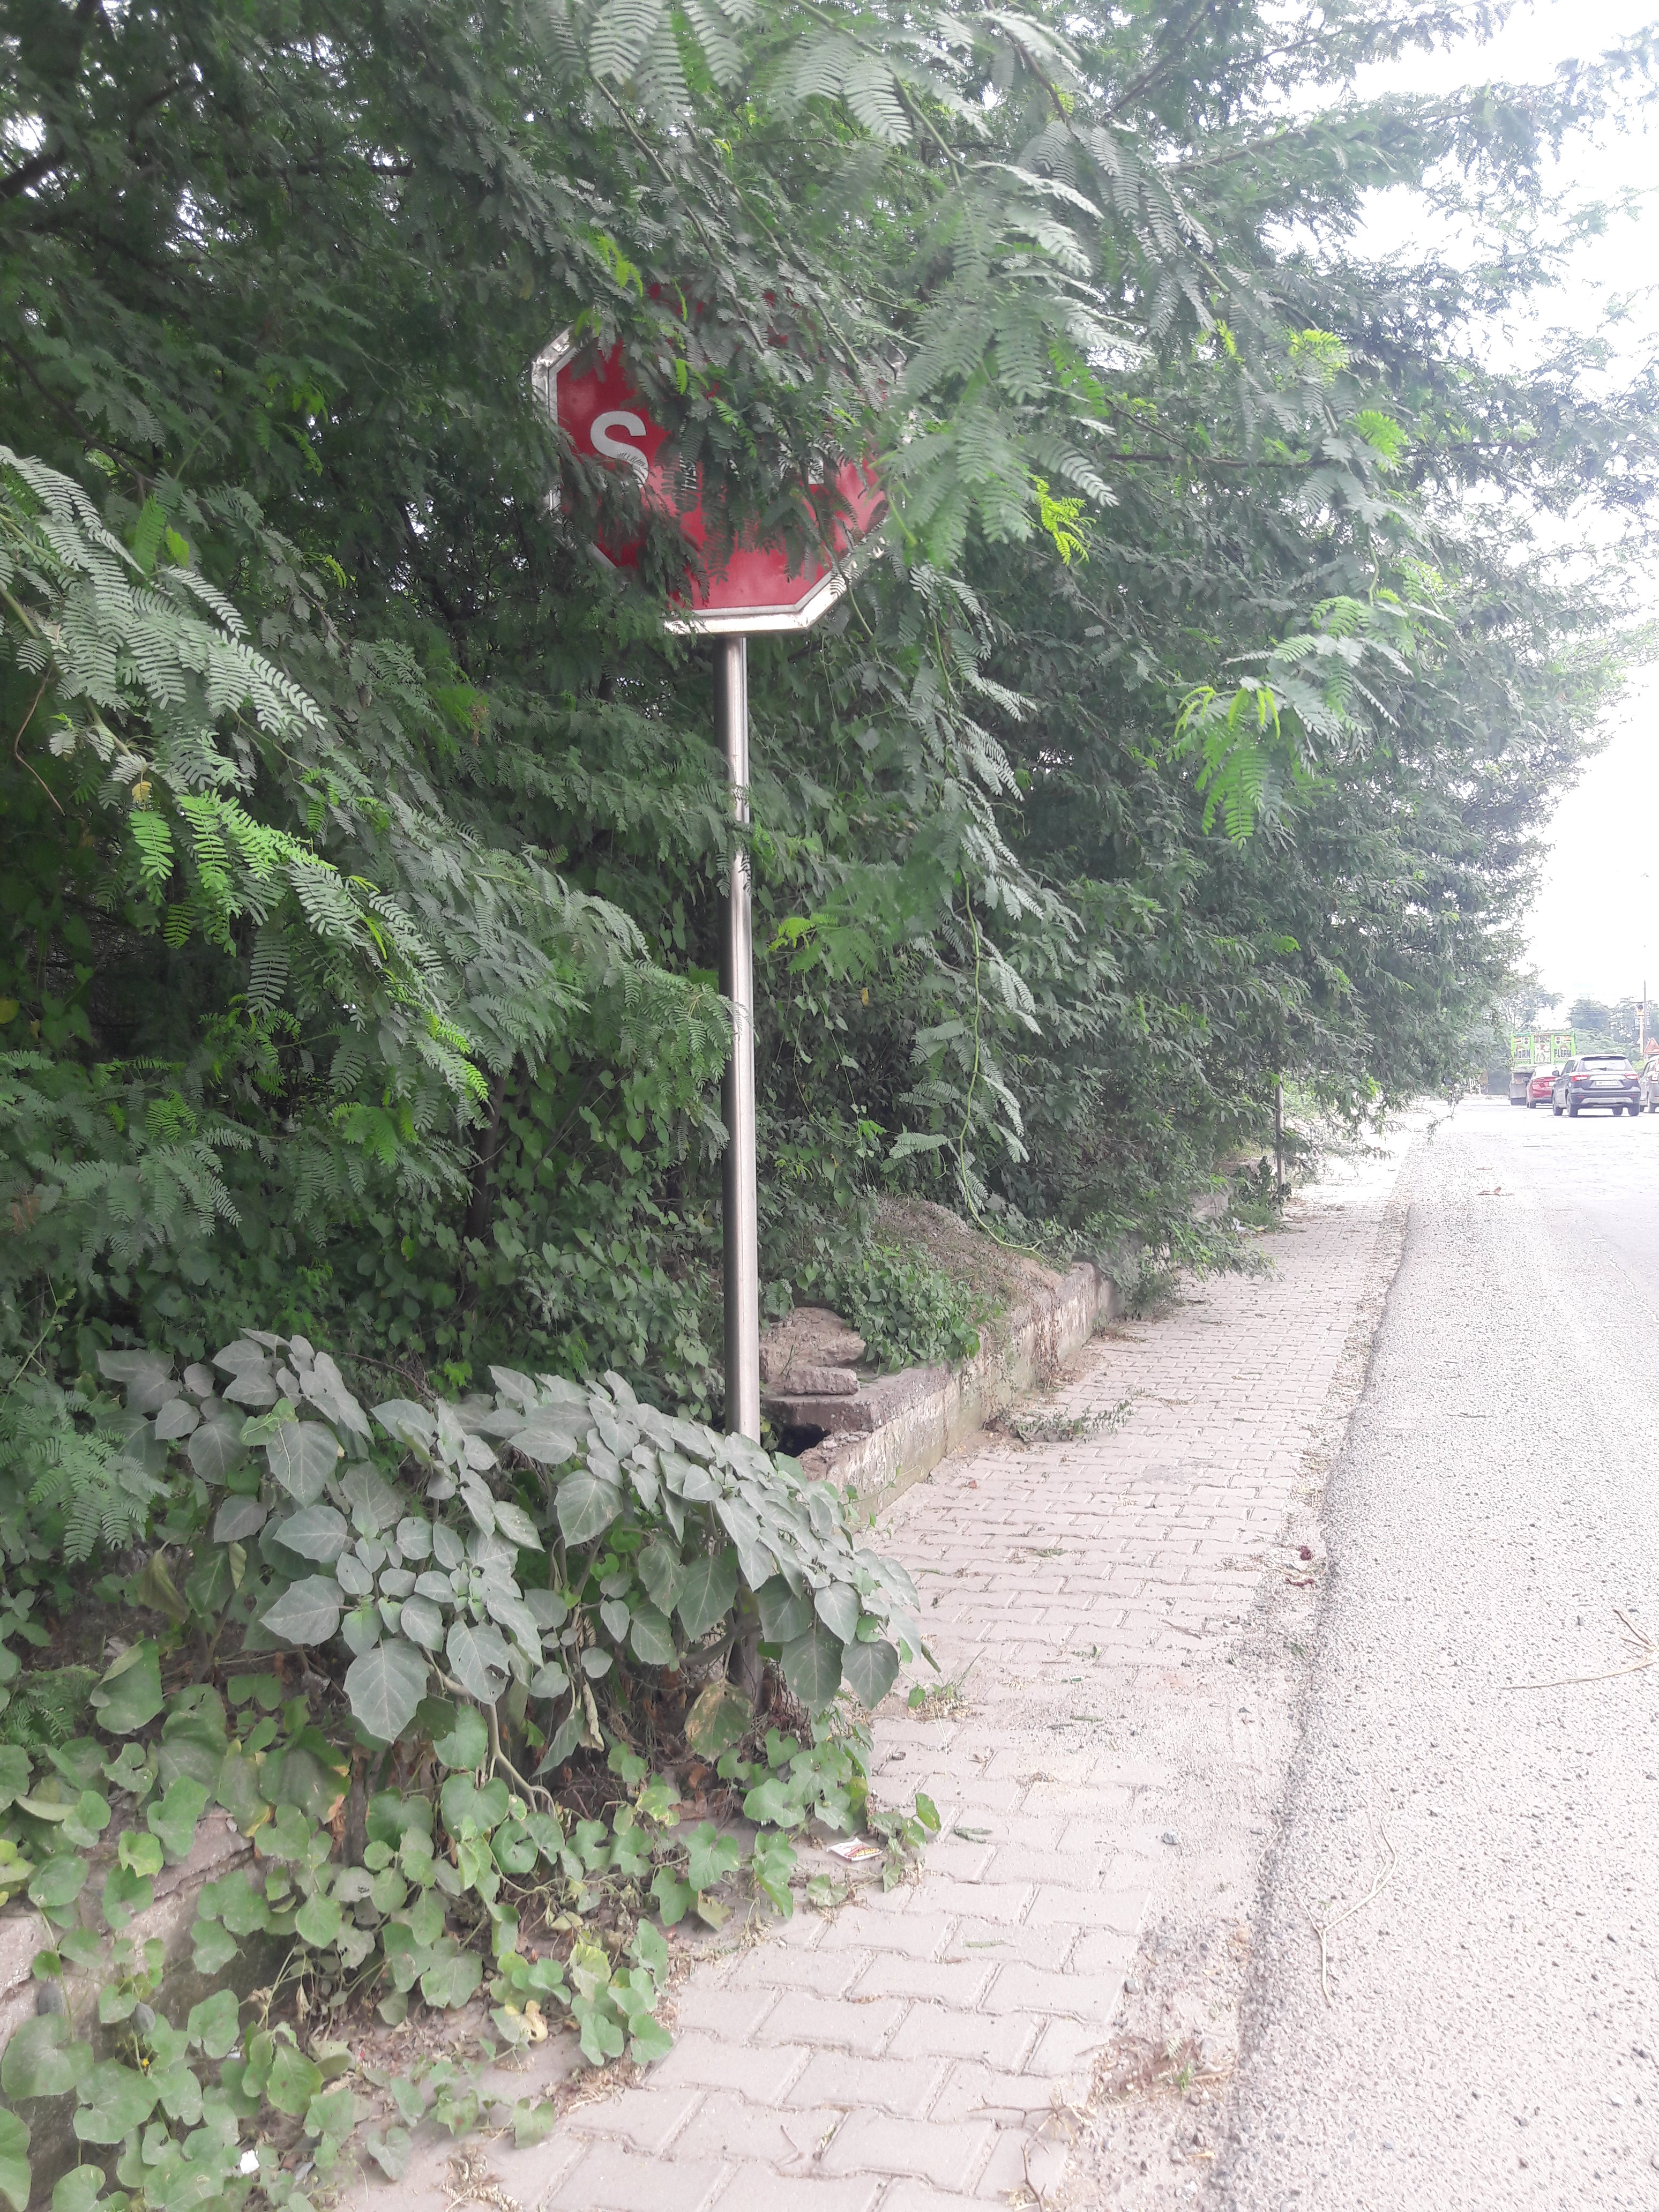traffic_sign: (530, 268, 887, 632)
